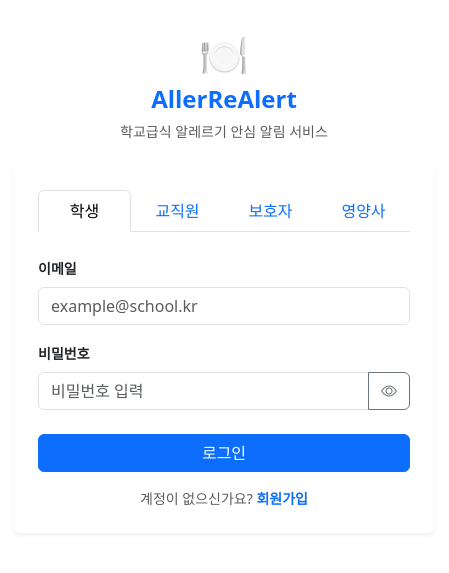
it: LoginPage › 로그인 실패 시 에러 메시지를 표시한다
Type "wrong@t.com" into the field with placeholder "example@school.kr".
click(224, 306); type("wrong@t.com")  # box [38, 287, 410, 325]
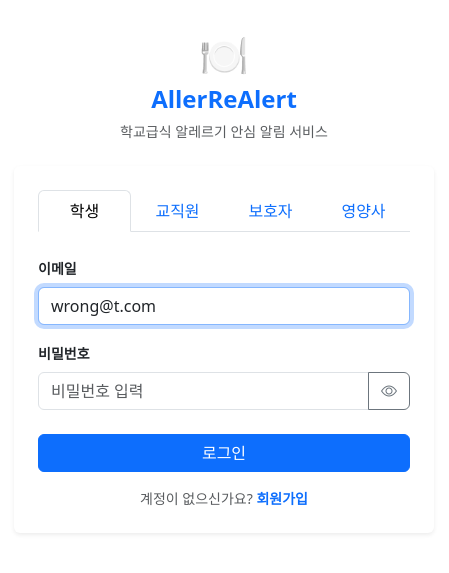
Type "wrong" into the password field with placeholder "비밀번호 입력".
click(204, 391); type("wrong")  # box [38, 372, 369, 410]
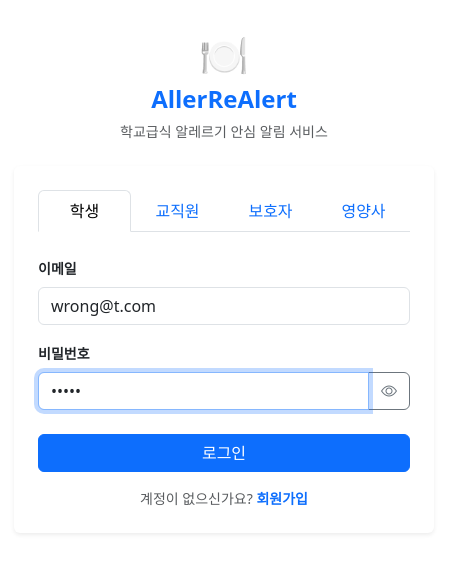
Click the button "로그인".
click(224, 453)  # box [38, 434, 410, 472]
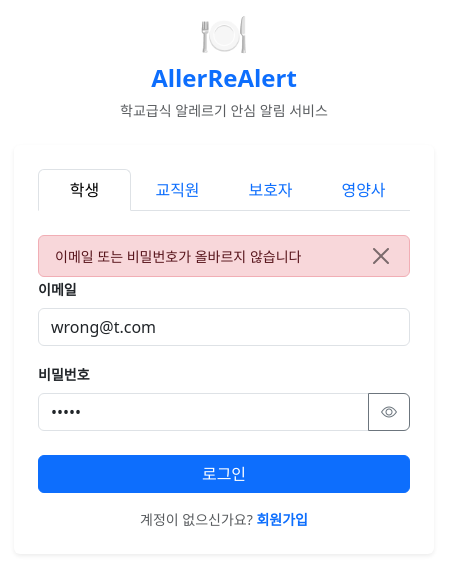
Check: the text "이메일 또는 비밀번호가 올바르지 않습니다" is shown, box [55, 246, 301, 267]
